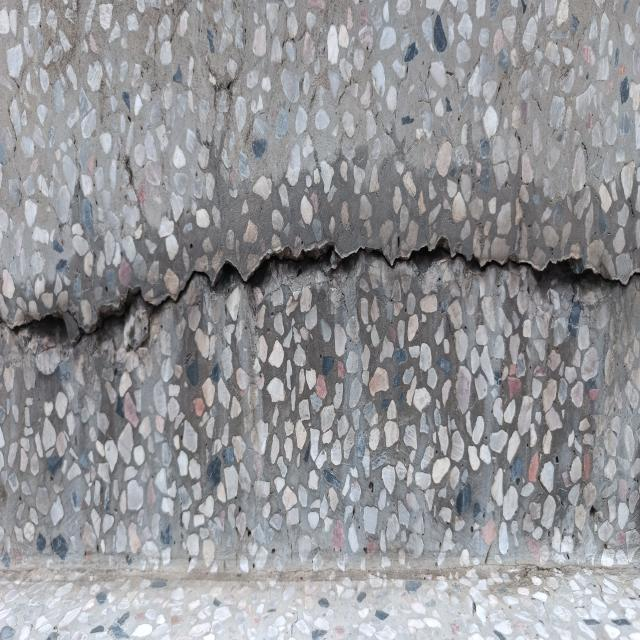horizontal crack: (0, 240, 639, 343)
